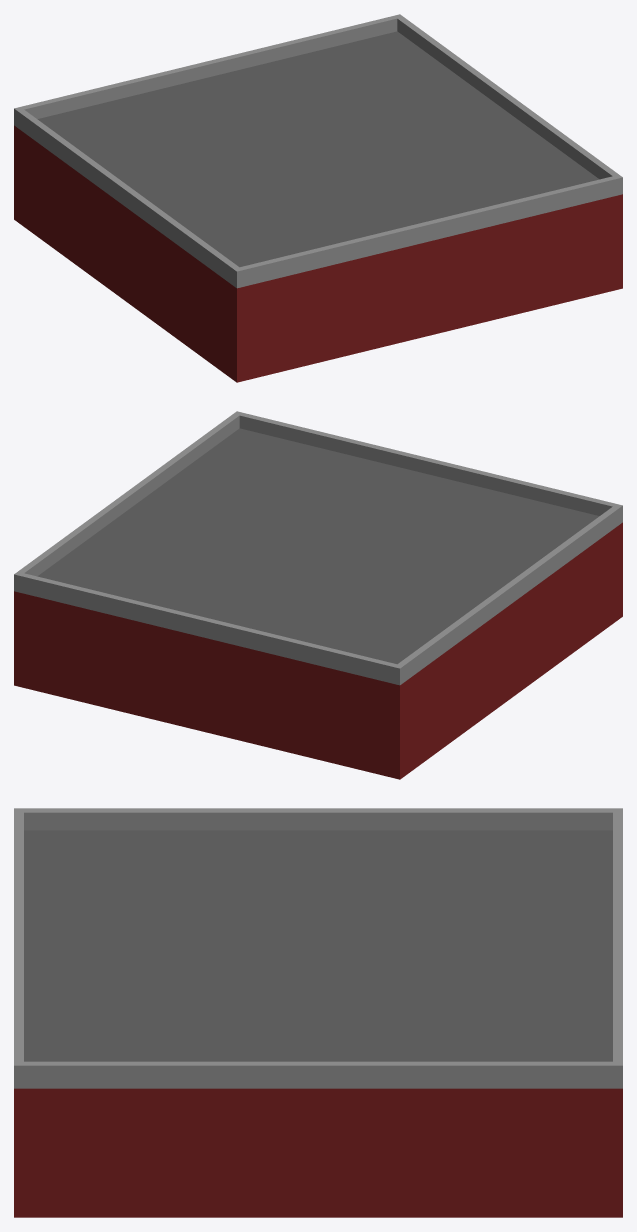
File: Building_30_30_70.FBX
3 renders of one model, top to bottom at view 1: azimuth 30°, elevation 25°; view 2: azimuth 150°, elevation 25°; view 3: azimuth 270°, elevation 25°, orthographic. The views are drawn at different scales.
Visible parts, largest first — view 1: BakedBuilding_2014741032829274; view 2: BakedBuilding_2014741032829274; view 3: BakedBuilding_2014741032829274.
Part boxes in pixels (x1,y1,x2,y2): BakedBuilding_2014741032829274: (14,14,622,382); BakedBuilding_2014741032829274: (14,411,622,779); BakedBuilding_2014741032829274: (14,808,622,1217).
Bounding box in the file's own units: 3000 × 825 × 3000.
